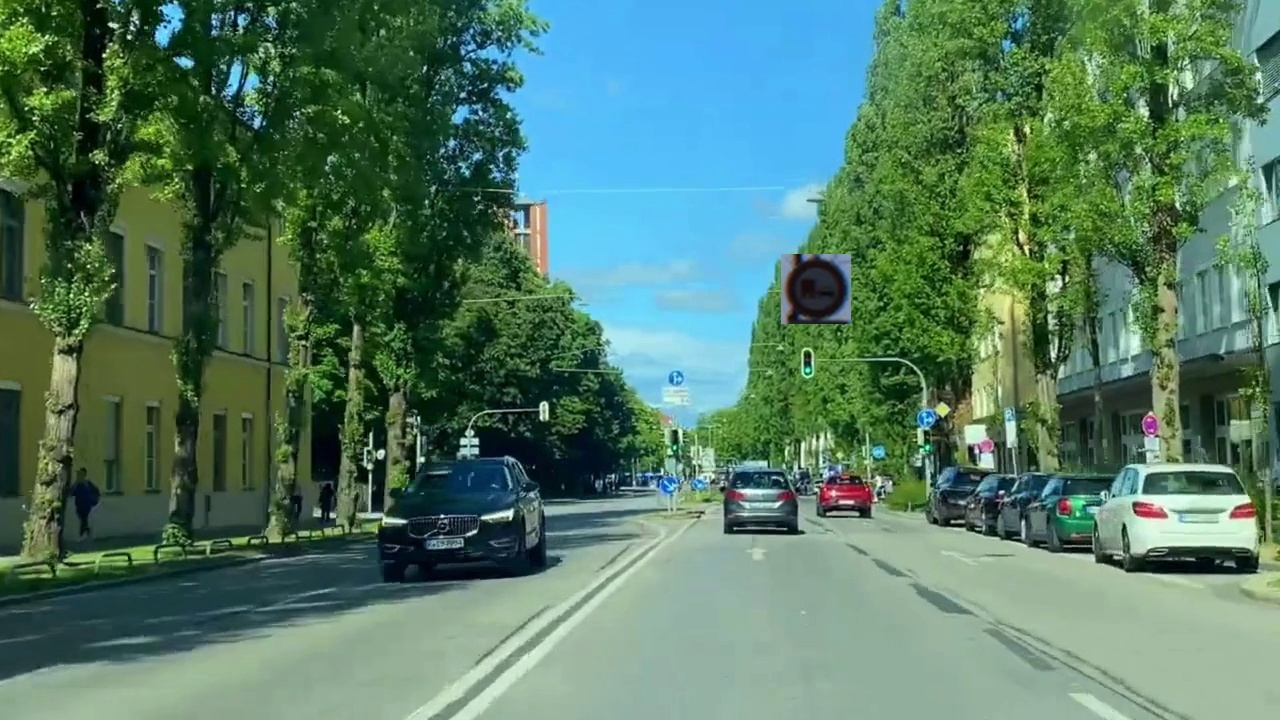No pass >3.5t: (781, 254, 851, 324)
